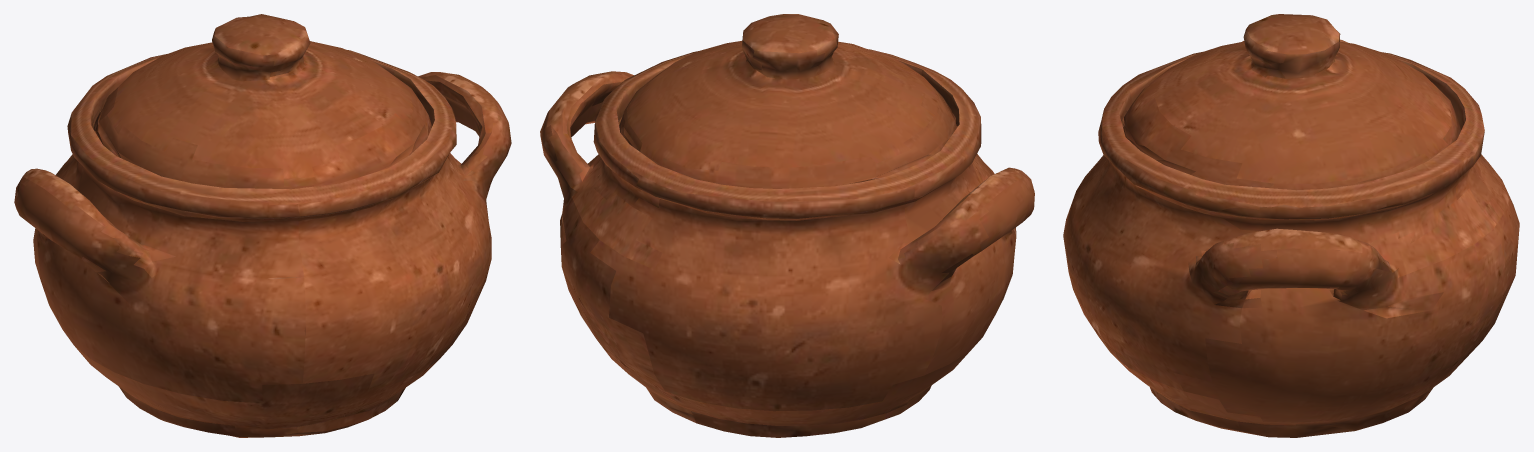
Rendered from clay-pot.glb.
3 renders of one model, left to right at view 1: azimuth 30°, elevation 25°; view 2: azimuth 150°, elevation 25°; view 3: azimuth 270°, elevation 25°, orthographic.
Visible parts, largest first — view 1: Mesh0; view 2: Mesh0; view 3: Mesh0.
Part boxes in pixels (x1,y1,x2,y2): Mesh0: (14, 14, 511, 437); Mesh0: (540, 14, 1034, 437); Mesh0: (1063, 14, 1519, 437).
Size of the model in its own units: 0.3 by 0.2225 by 0.2615.
1 material, 1 textured.
